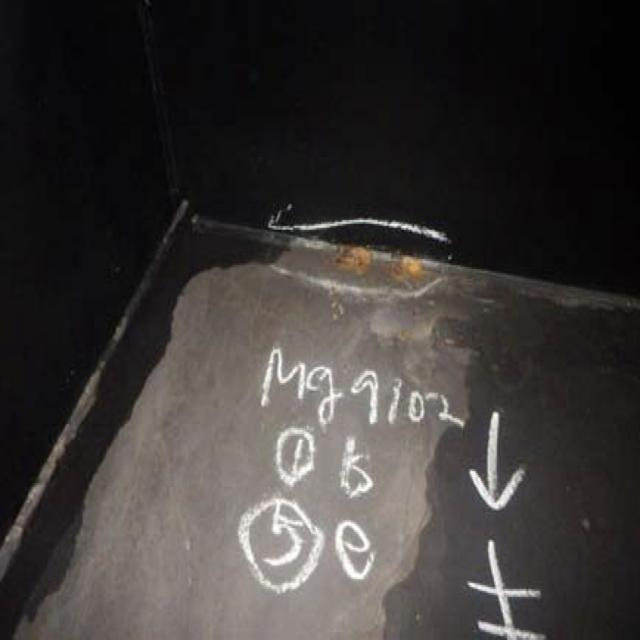corrosion: (290, 212, 473, 317)
